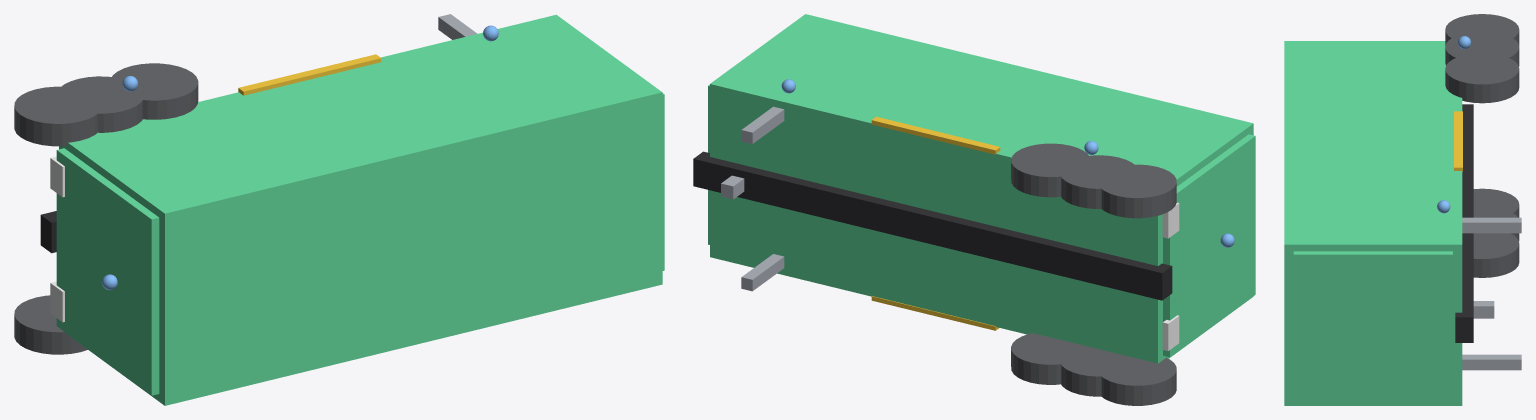
Rendered from trailer_inspection.glb.
3 views of the same model, side by side, from view 1: azimuth 30°, elevation 25°; view 2: azimuth 150°, elevation 25°; view 3: azimuth 270°, elevation 25° (orthographic). The views are drawn at different scales.
Parts seen in each view (by area): view 1: EXT_trailer_body, EXT_rear_door, EXT_wheel_rear3_left, EXT_wheel_rear_left, EXT_wheel_rear2_left, EXT_wheel_rear3_right, EXT_side_marker_left, EXT_chassis, EXT_landing_gear_left; view 2: EXT_trailer_body, EXT_chassis, EXT_rear_door, EXT_wheel_rear3_left, EXT_wheel_rear3_right, EXT_wheel_rear_left, EXT_wheel_rear2_left, EXT_wheel_rear_right, EXT_wheel_rear2_right, EXT_side_marker_left, EXT_landing_gear_left, EXT_landing_gear_right (+2 smaller); view 3: EXT_trailer_body, EXT_front_panel, EXT_wheel_rear_left, EXT_chassis, EXT_wheel_rear_right, EXT_wheel_rear2_left, EXT_wheel_rear3_left, EXT_wheel_rear3_right, EXT_landing_gear_left, EXT_landing_gear_right, EXT_side_marker_left, EXT_wheel_rear2_right (+1 smaller).
Part boxes in pixels (box(x1,y1,x2,y2)): EXT_trailer_body: box(59, 14, 662, 405); EXT_rear_door: box(56, 148, 159, 395); EXT_wheel_rear3_left: box(14, 86, 99, 146); EXT_wheel_rear_left: box(110, 63, 198, 119); EXT_wheel_rear2_left: box(56, 76, 142, 132); EXT_wheel_rear3_right: box(14, 295, 87, 354); EXT_side_marker_left: box(238, 54, 381, 95); EXT_chassis: box(40, 211, 56, 253); EXT_landing_gear_left: box(438, 14, 477, 39); EXT_trailer_body: box(710, 14, 1253, 363); EXT_chassis: box(693, 151, 1172, 300); EXT_rear_door: box(1163, 134, 1255, 357); EXT_wheel_rear3_left: box(1098, 164, 1176, 218); EXT_wheel_rear3_right: box(1097, 355, 1176, 405); EXT_wheel_rear_left: box(1011, 143, 1090, 197); EXT_wheel_rear2_left: box(1059, 155, 1138, 208); EXT_wheel_rear_right: box(1011, 333, 1089, 384); EXT_wheel_rear2_right: box(1061, 346, 1138, 396); EXT_side_marker_left: box(871, 116, 1000, 154); EXT_landing_gear_left: box(741, 106, 784, 143); EXT_landing_gear_right: box(741, 254, 784, 291); EXT_trailer_body: box(1284, 41, 1462, 405); EXT_front_panel: box(1293, 251, 1452, 402); EXT_wheel_rear_left: box(1445, 53, 1519, 103); EXT_chassis: box(1455, 104, 1473, 342); EXT_wheel_rear_right: box(1473, 233, 1519, 277); EXT_wheel_rear2_left: box(1445, 31, 1519, 66); EXT_wheel_rear3_left: box(1445, 14, 1519, 45); EXT_wheel_rear3_right: box(1473, 188, 1519, 217); EXT_landing_gear_left: box(1462, 217, 1521, 233); EXT_landing_gear_right: box(1462, 354, 1521, 370); EXT_side_marker_left: box(1454, 111, 1462, 171); EXT_wheel_rear2_right: box(1473, 206, 1519, 240).
Size of the model in its own units: 7 by 3.42 by 3.2.
